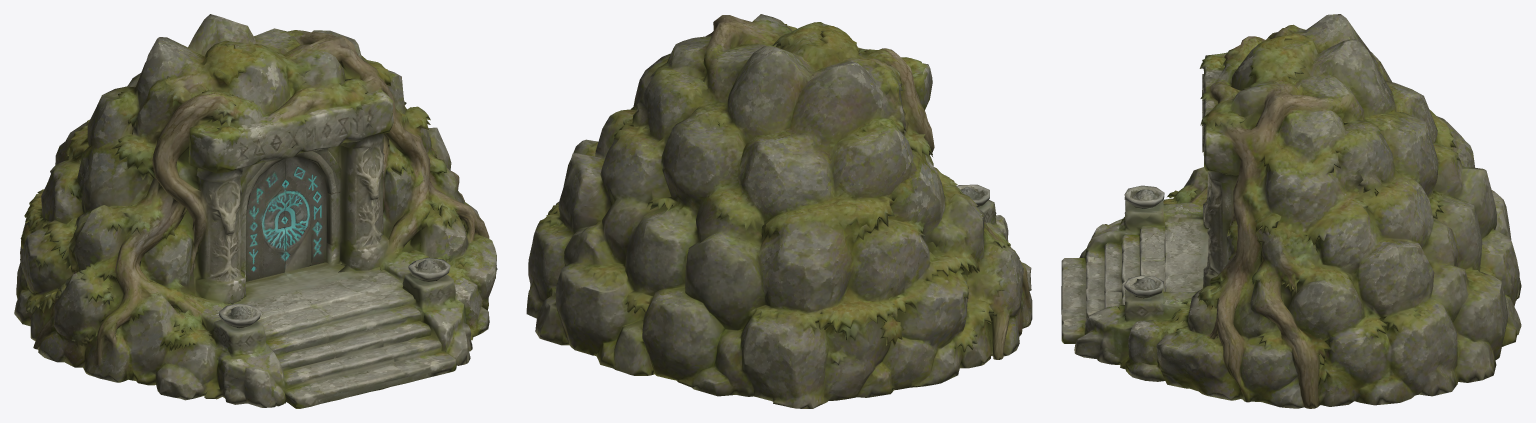
Rendered from santuario-entrada.glb.
3 renders of one model, left to right at view 1: azimuth 30°, elevation 25°; view 2: azimuth 150°, elevation 25°; view 3: azimuth 270°, elevation 25°, orthographic. The views are drawn at different scales.
Parts seen in each view (by area): view 1: tripo_node_8a63969b-af63-485f-a64c-6c4c841d6c73; view 2: tripo_node_8a63969b-af63-485f-a64c-6c4c841d6c73; view 3: tripo_node_8a63969b-af63-485f-a64c-6c4c841d6c73.
Part boxes in pixels (box(x1,y1,x2,y2)): tripo_node_8a63969b-af63-485f-a64c-6c4c841d6c73: box(14, 14, 497, 408); tripo_node_8a63969b-af63-485f-a64c-6c4c841d6c73: box(526, 14, 1032, 408); tripo_node_8a63969b-af63-485f-a64c-6c4c841d6c73: box(1061, 14, 1521, 408).
Size of the model in its own units: 0.9792 by 0.5848 by 0.9315.
1 material, 1 textured.
